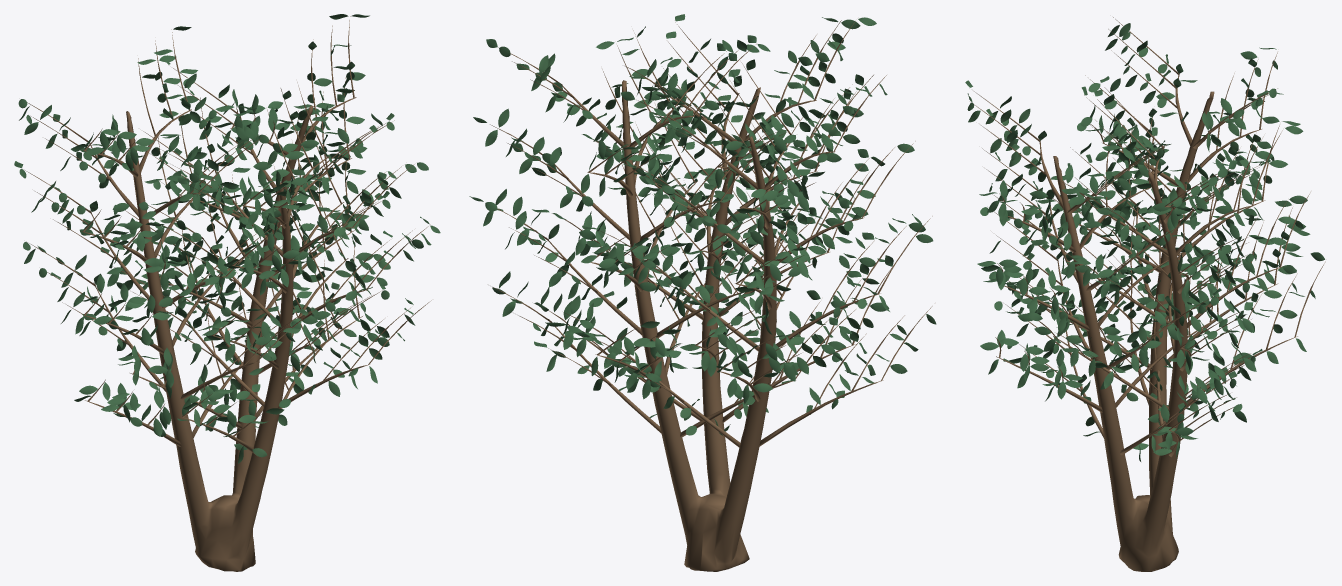
File: Myrte_0_Niveau0.fbx
3 views of the same model, side by side, from view 1: azimuth 30°, elevation 25°; view 2: azimuth 150°, elevation 25°; view 3: azimuth 270°, elevation 25° (orthographic). The views are drawn at different scales.
Parts seen in each view (by area): view 1: Myrte_0_Niveau0; view 2: Myrte_0_Niveau0; view 3: Myrte_0_Niveau0.
Boxes of the visible parts, box(x1,y1,x2,y2) form: Myrte_0_Niveau0: box(14, 14, 440, 571); Myrte_0_Niveau0: box(469, 14, 936, 571); Myrte_0_Niveau0: box(965, 17, 1325, 571).
Bounding box in the file's own units: 90.96 × 117 × 80.27.
